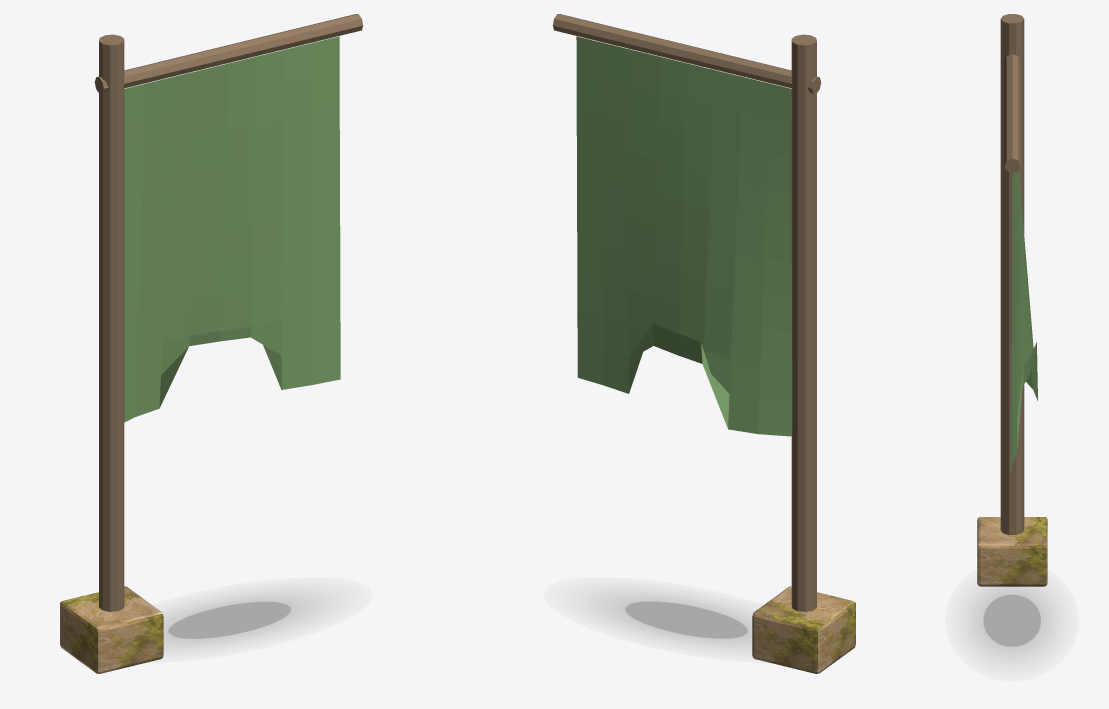
Rendered from banner-green.glb.
3 renders of one model, left to right at view 1: azimuth 30°, elevation 25°; view 2: azimuth 150°, elevation 25°; view 3: azimuth 270°, elevation 25°, orthographic. The views are drawn at different scales.
Parts seen in each view (by area): view 1: cloth, pole, base, bar, ContactShadow; view 2: cloth, pole, base, bar, ContactShadow; view 3: pole, base, cloth, ContactShadow, bar.
Part boxes in pixels (left/top/right/bottom): cloth: left=124, top=36, right=340, bottom=422; pole: left=99, top=34, right=124, bottom=611; base: left=60, top=586, right=163, bottom=673; bar: left=94, top=14, right=363, bottom=93; ContactShadow: left=164, top=597, right=305, bottom=643; cloth: left=576, top=36, right=792, bottom=436; pole: left=791, top=34, right=816, bottom=611; base: left=752, top=586, right=855, bottom=673; bar: left=552, top=14, right=821, bottom=93; ContactShadow: left=610, top=597, right=751, bottom=642; pole: left=1000, top=14, right=1024, bottom=534; base: left=977, top=517, right=1047, bottom=586; cloth: left=1010, top=170, right=1037, bottom=473; ContactShadow: left=976, top=588, right=1047, bottom=652; bar: left=1004, top=54, right=1020, bottom=173.
Size of the model in its own units: 1.5 by 2.6 by 0.7.
Materials: 4 (2 with a texture image).
